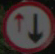Two way: (5, 1, 48, 46)
